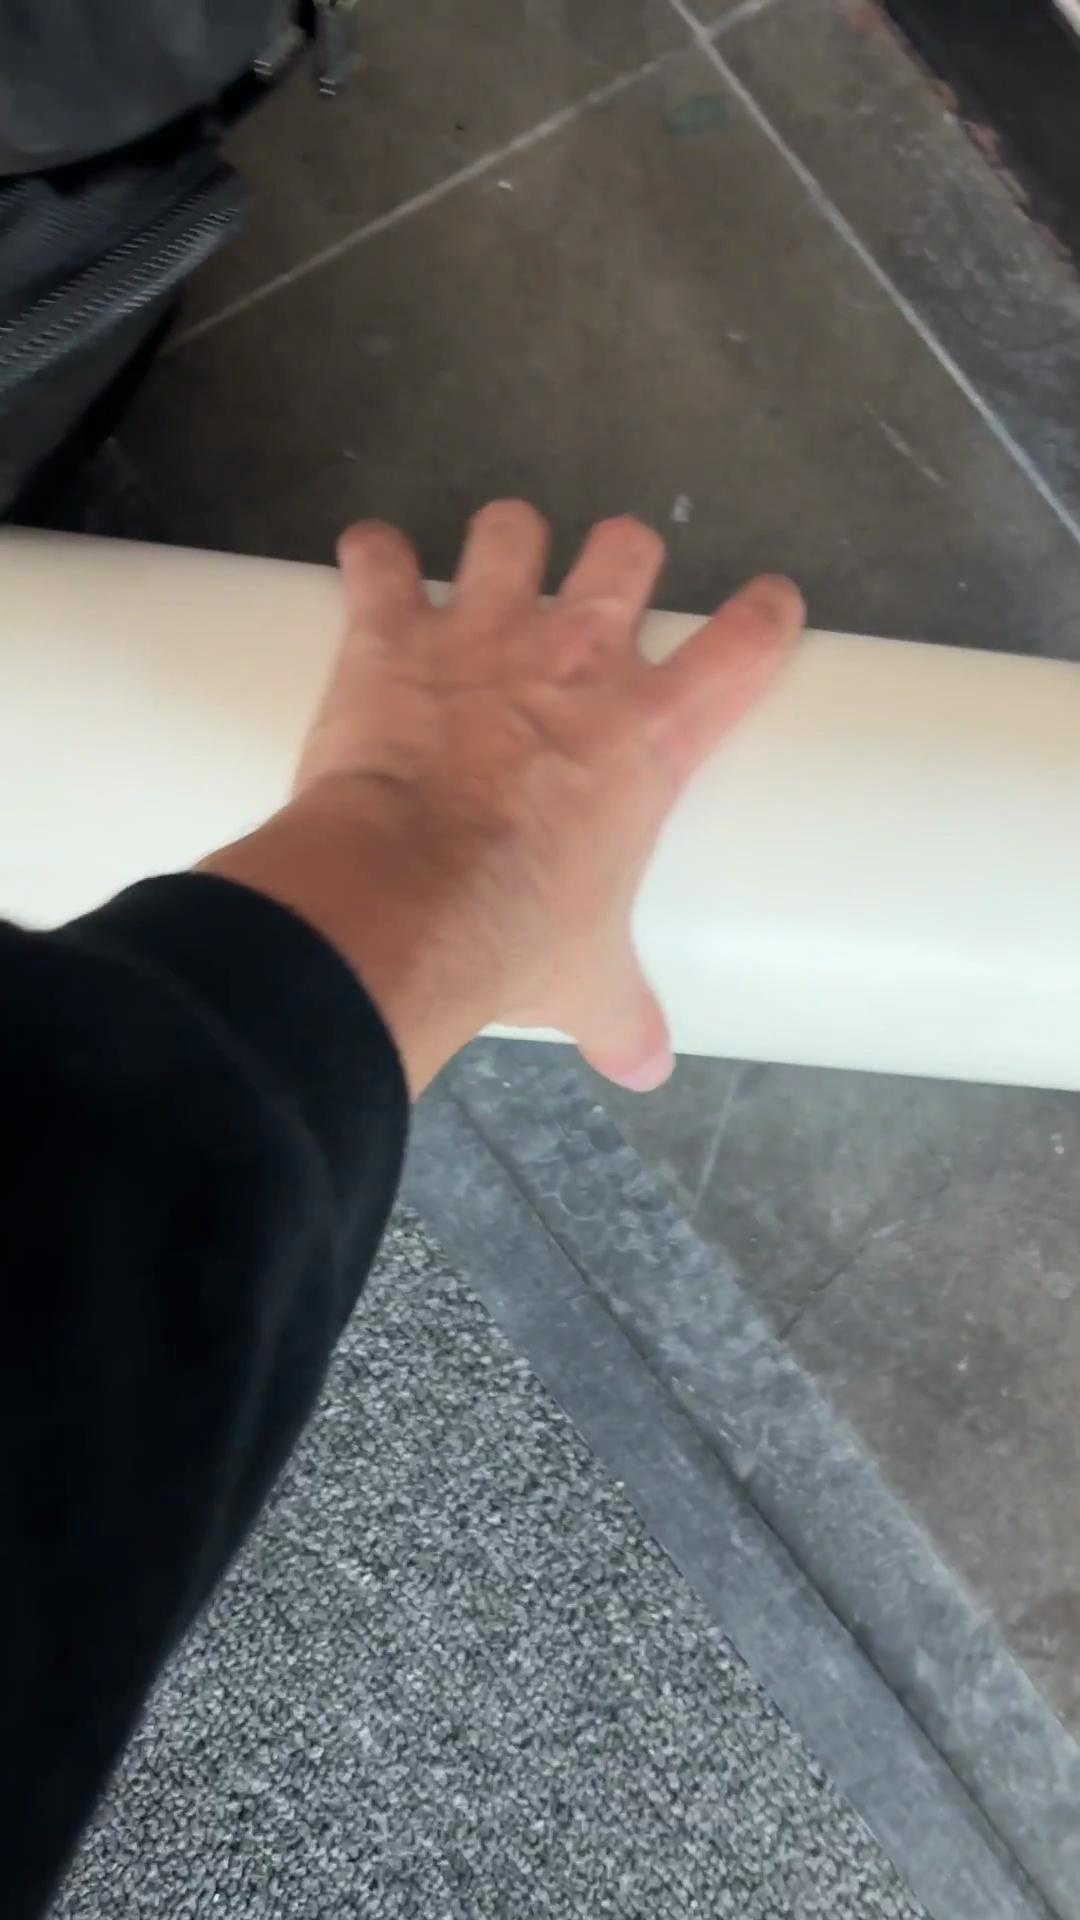CORAL: (3, 517, 1076, 1096)
